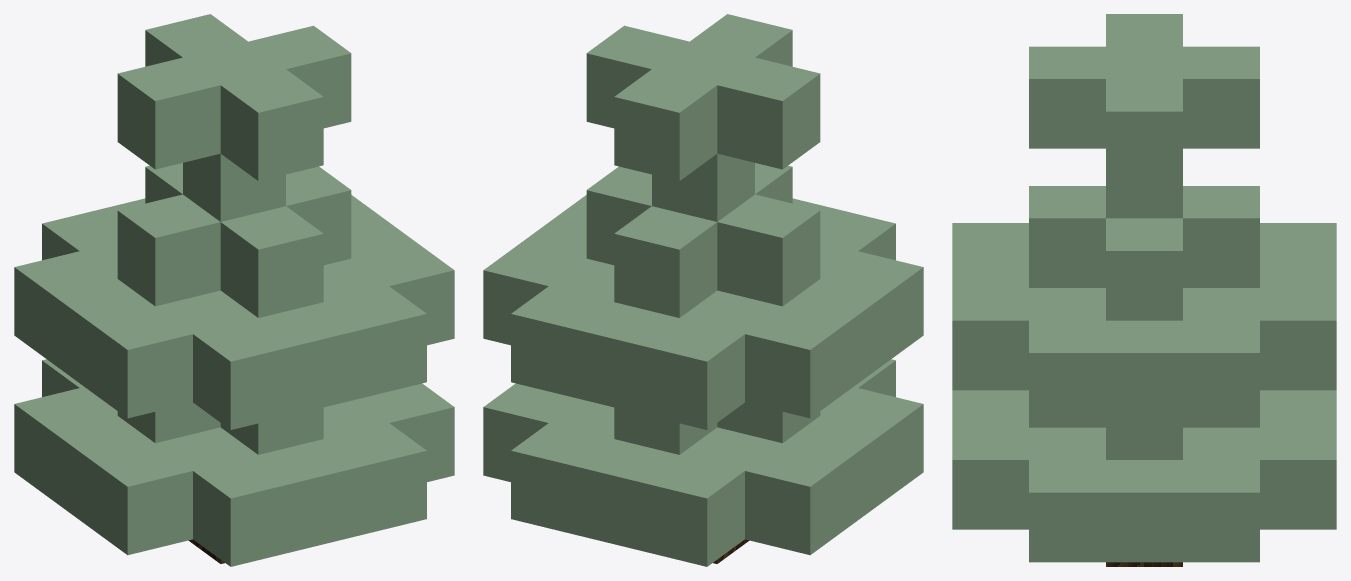
Rendered from Dark2.fbx.
3 views of the same model, side by side, from view 1: azimuth 30°, elevation 25°; view 2: azimuth 150°, elevation 25°; view 3: azimuth 270°, elevation 25° (orthographic).
Visible parts, largest first — view 1: Dark2; view 2: Dark2; view 3: Dark2.
Part boxes in pixels (x1,y1,x2,y2): Dark2: (14, 14, 454, 566); Dark2: (483, 14, 923, 566); Dark2: (952, 14, 1336, 566).
Size of the model in its own units: 500 by 700 by 500.
